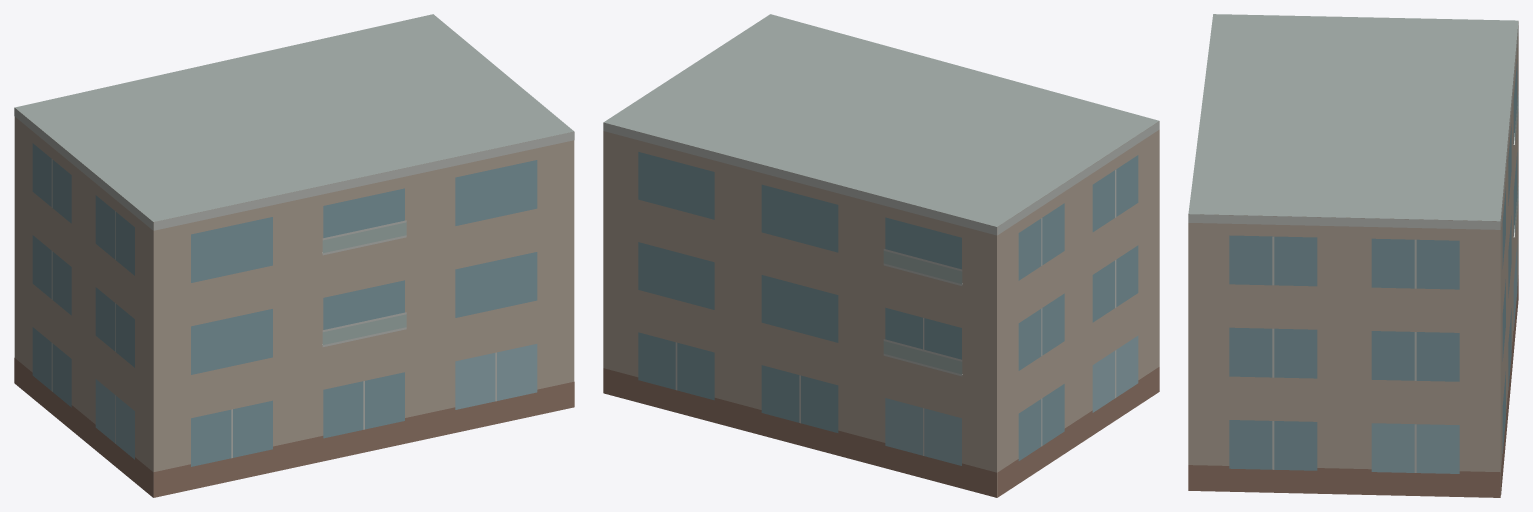
File: survey-upis-32963738.glb
3 views of the same model, side by side, from view 1: azimuth 30°, elevation 25°; view 2: azimuth 150°, elevation 25°; view 3: azimuth 270°, elevation 25° (orthographic). The views are drawn at different scales.
Parts seen in each view (by area): view 1: survey-upis-32963738.tmp; view 2: survey-upis-32963738.tmp; view 3: survey-upis-32963738.tmp.
Part boxes in pixels (box(x1,y1,x2,y2)): survey-upis-32963738.tmp: box(14, 14, 574, 497); survey-upis-32963738.tmp: box(603, 14, 1159, 497); survey-upis-32963738.tmp: box(1188, 14, 1518, 497).
Bounding box in the file's own units: 12.41 × 7.72 × 8.36.
